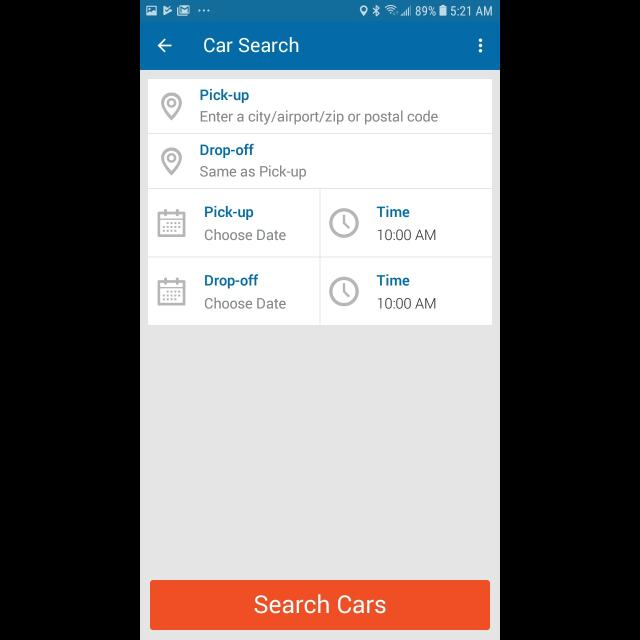icon: (329, 277, 359, 307), (329, 208, 359, 238), (158, 208, 186, 238), (158, 278, 186, 306), (161, 148, 183, 176), (162, 93, 182, 121), (158, 38, 172, 54), (478, 38, 482, 52)
text: (200, 110, 438, 126), (200, 164, 306, 180), (204, 37, 300, 53), (206, 229, 286, 241), (206, 298, 286, 310), (200, 88, 250, 104), (201, 144, 255, 158), (205, 274, 259, 288), (378, 229, 436, 241), (378, 298, 436, 310), (206, 206, 254, 220), (376, 206, 409, 218), (376, 274, 409, 286)
textbutton: (150, 580, 490, 630)
uppertaskbar: (140, 1, 500, 22)
